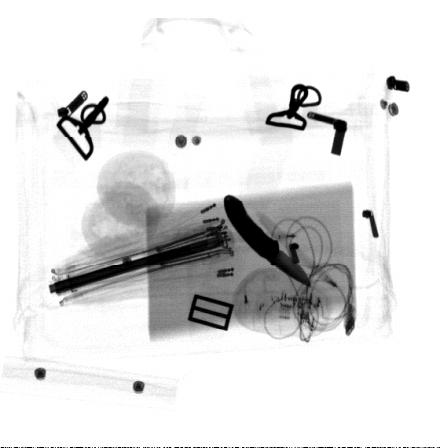Knife: (223, 194, 312, 289)
